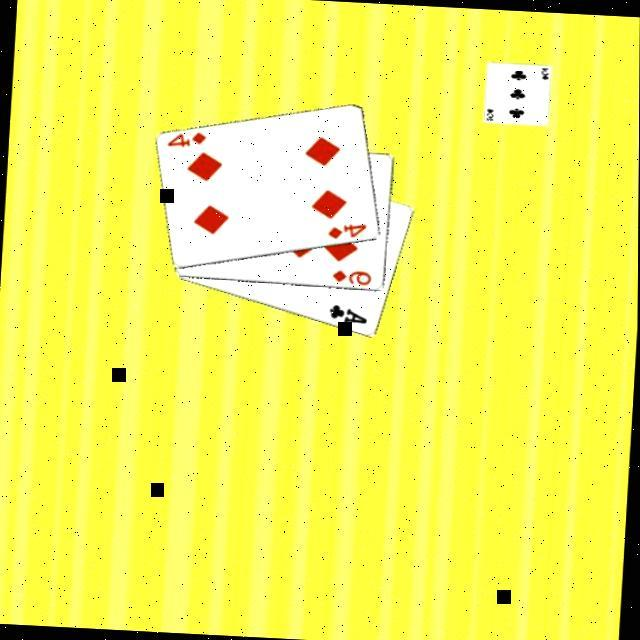4D: (327, 218, 372, 242), (166, 126, 211, 150)
9D: (331, 266, 376, 286)
AC: (328, 300, 373, 326)
